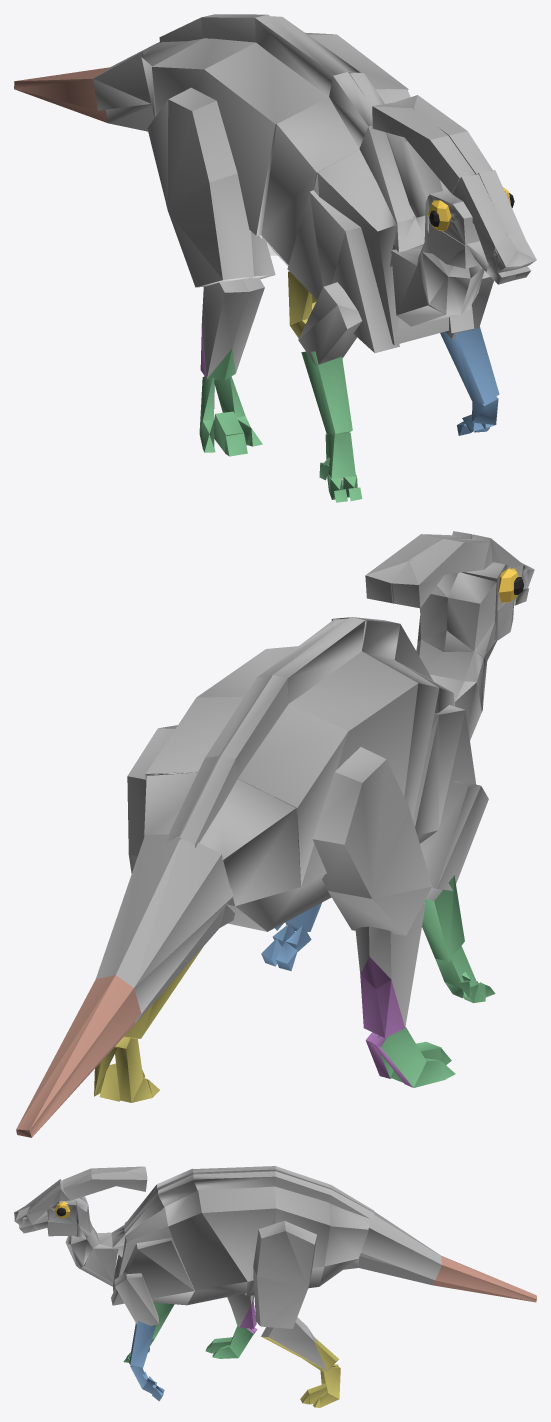
Rendered from para.fbx.
3 views of the same model, one above another, from view 1: azimuth 30°, elevation 25°; view 2: azimuth 150°, elevation 25°; view 3: azimuth 270°, elevation 25° (orthographic). The views are drawn at different scales.
Visible parts, largest first — view 1: para_Body, para_LegFR, para_LegFL, para_Tail, para_LegBL; view 2: para_Body, para_Tail, para_LegFR, para_LegBL, para_LegBR, para_LegFL; view 3: para_Body, para_Tail, para_LegBL, para_LegFR, para_LegFL, para_LegBR.
Part boxes in pixels (x1,y1,x2,y2): para_Body: [93, 14, 536, 378]; para_LegFR: [199, 348, 362, 502]; para_LegFL: [440, 326, 499, 435]; para_Tail: [14, 67, 109, 122]; para_LegBL: [288, 271, 316, 338]; para_Body: [96, 531, 534, 1027]; para_Tail: [16, 975, 141, 1137]; para_LegFR: [378, 875, 495, 1087]; para_LegBL: [94, 947, 202, 1102]; para_LegBR: [360, 957, 412, 1087]; para_LegFL: [261, 903, 321, 971]; para_Body: [14, 1166, 441, 1370]; para_Tail: [433, 1256, 536, 1302]; para_LegBL: [262, 1336, 340, 1407]; para_LegFR: [123, 1302, 254, 1362]; para_LegFL: [129, 1321, 164, 1401]; para_LegBR: [239, 1295, 257, 1333].
Size of the model in its own units: 2.76 by 4.15 by 9.47.
